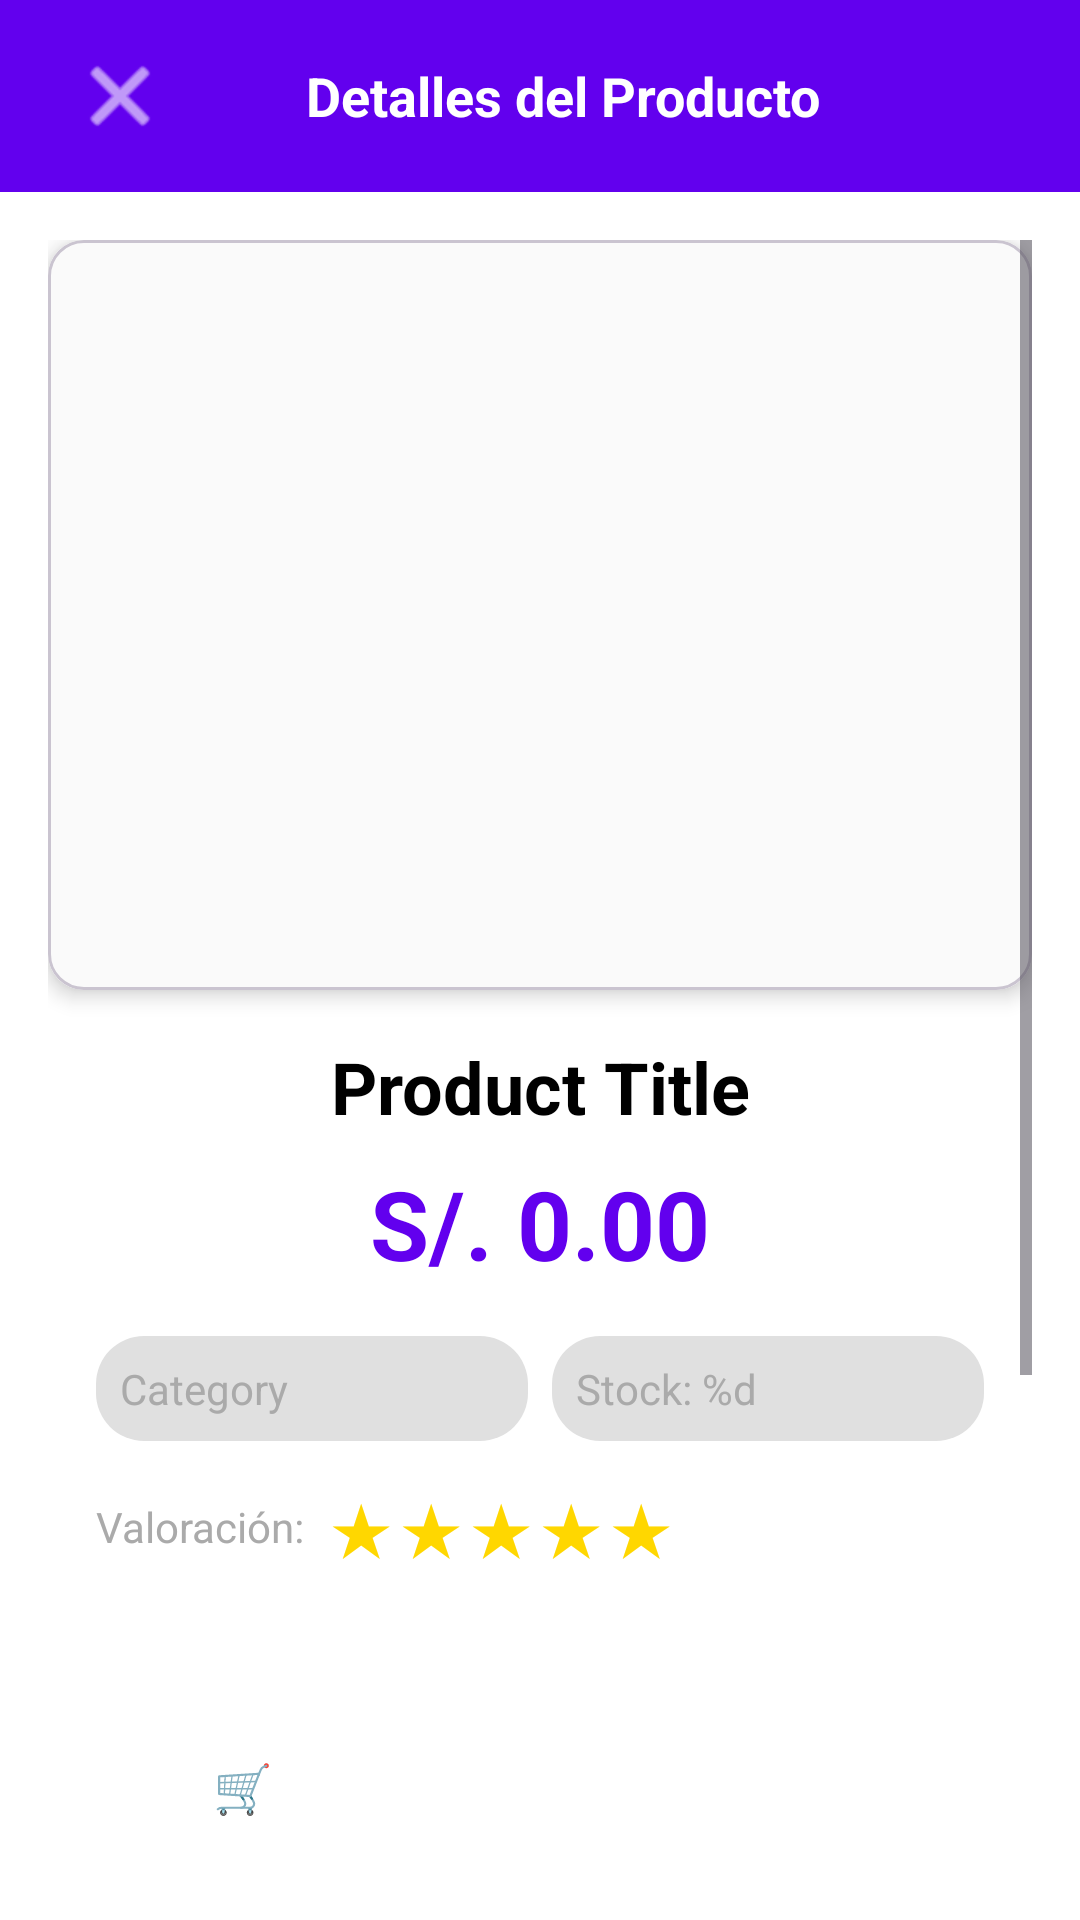

Screen size 1080×1920. Icon name, then its box in pixels as (x1, y1, x2, y2):
Volver: (90, 66, 150, 126)
